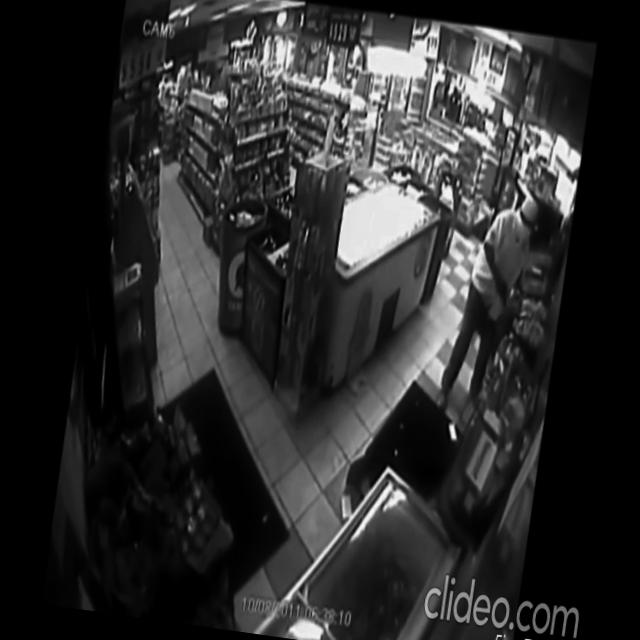gun: (498, 280, 512, 313)
person with a gun: (433, 184, 542, 423)
